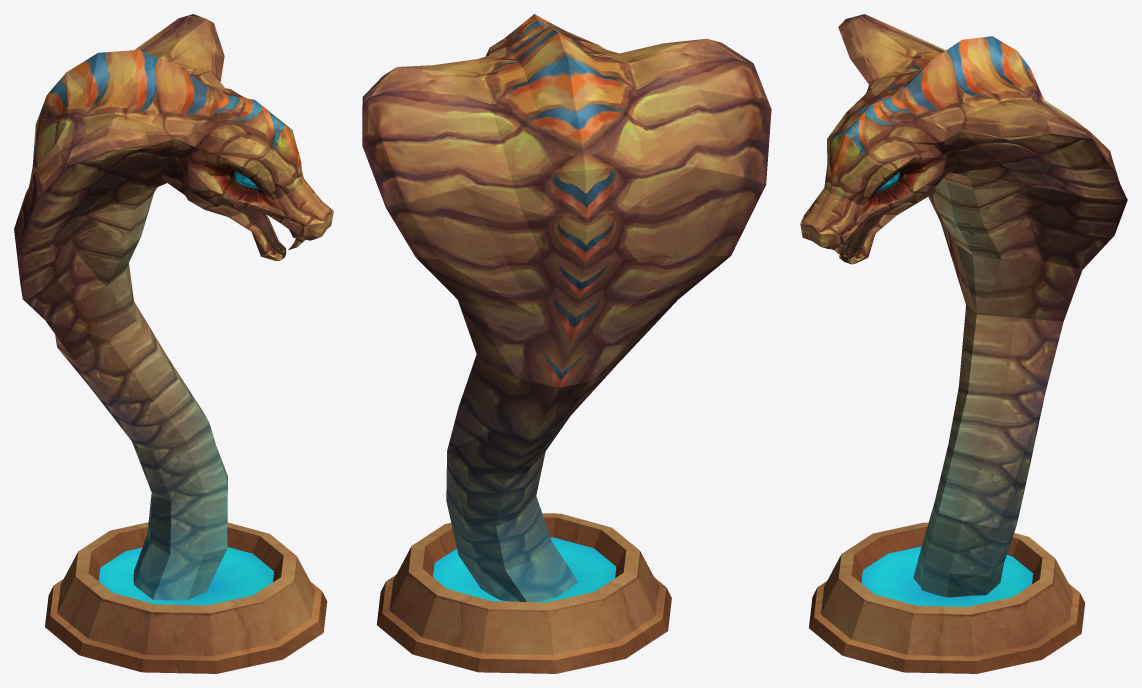
The model's file is Area_08_9.FBX.
3 renders of one model, left to right at view 1: azimuth 30°, elevation 25°; view 2: azimuth 150°, elevation 25°; view 3: azimuth 270°, elevation 25°, orthographic. The views are drawn at different scales.
Parts seen in each view (by area): view 1: Area_08_9; view 2: Area_08_9; view 3: Area_08_9.
Boxes of the visible parts, bbox=[...] form: Area_08_9: bbox=[14, 14, 333, 673]; Area_08_9: bbox=[362, 14, 771, 673]; Area_08_9: bbox=[800, 14, 1127, 673].
Bounding box in the file's own units: 472 × 795 × 424.
